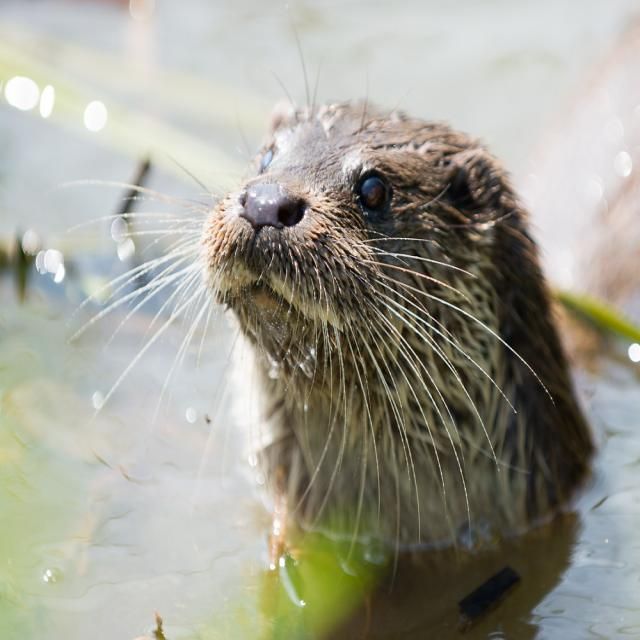otter: (207, 104, 581, 524)
